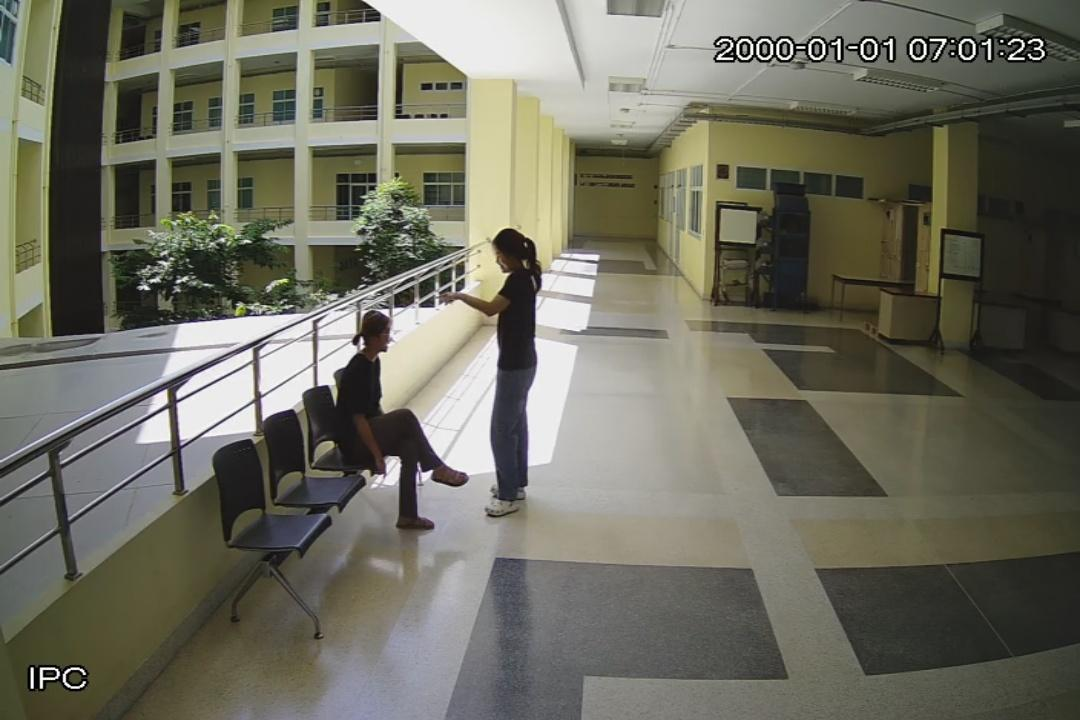normal: (331, 313, 468, 532), (475, 226, 539, 515)
